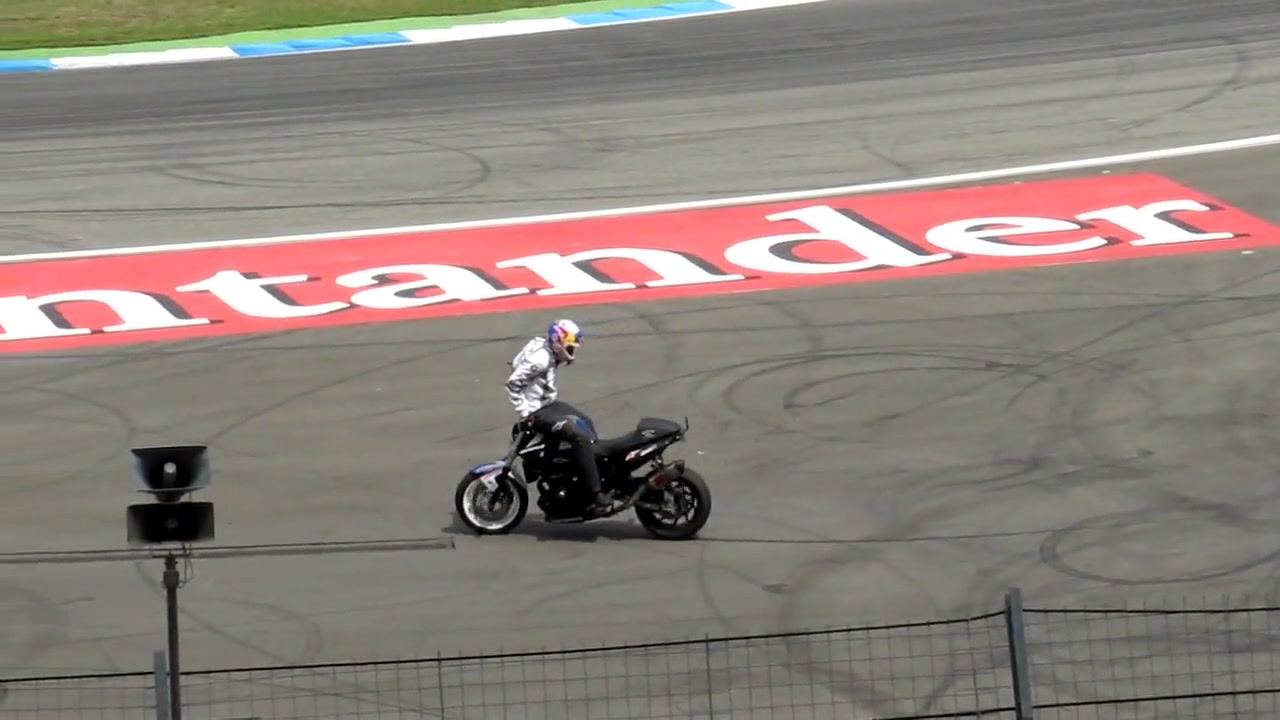motorbike: (456, 396, 715, 542)
